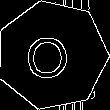O_N: (30, 30, 75, 81)
